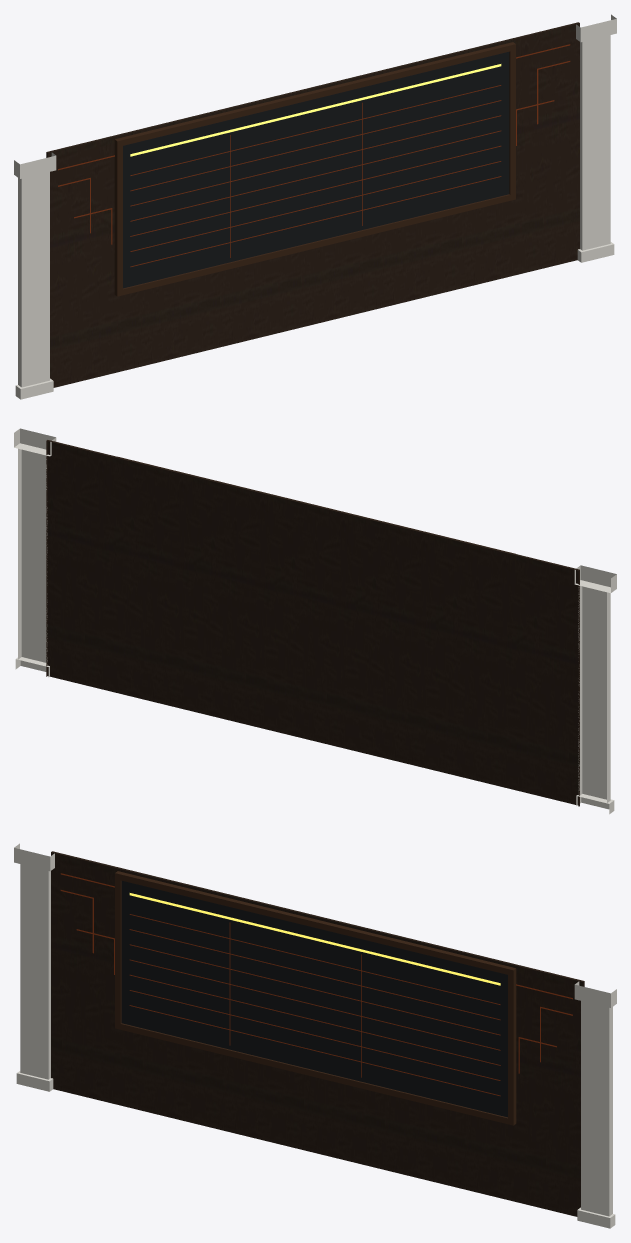
Rendered from leaderboard_wall.glb.
3 views of the same model, one above another, from view 1: azimuth 30°, elevation 25°; view 2: azimuth 150°, elevation 25°; view 3: azimuth 330°, elevation 25° (orthographic).
Parts seen in each view (by area): view 1: leaderboard_wall; view 2: leaderboard_wall; view 3: leaderboard_wall.
Part boxes in pixels (x1=…): leaderboard_wall: x1=14, y1=14, x2=616, y2=399; leaderboard_wall: x1=14, y1=428, x2=616, y2=814; leaderboard_wall: x1=14, y1=843, x2=616, y2=1228.
Bounding box in the file's own units: 14.8 × 5.6 × 0.26.
Materials: 6 (1 with a texture image).
